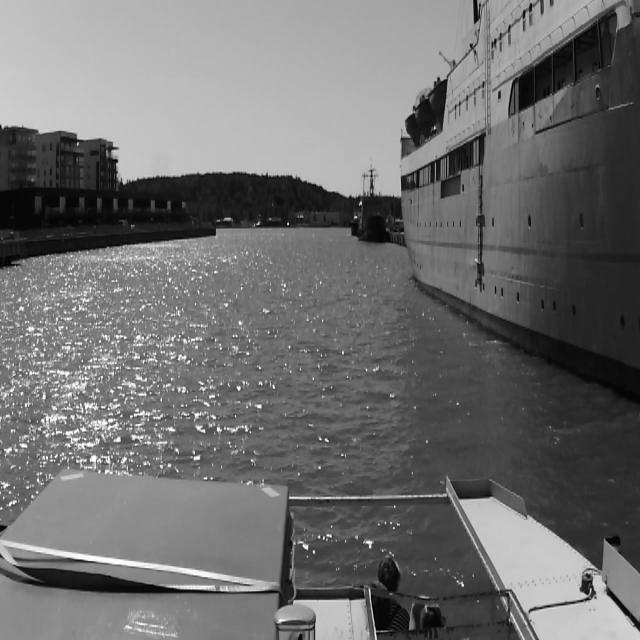ship: (399, 0, 640, 386), (353, 160, 397, 242)
